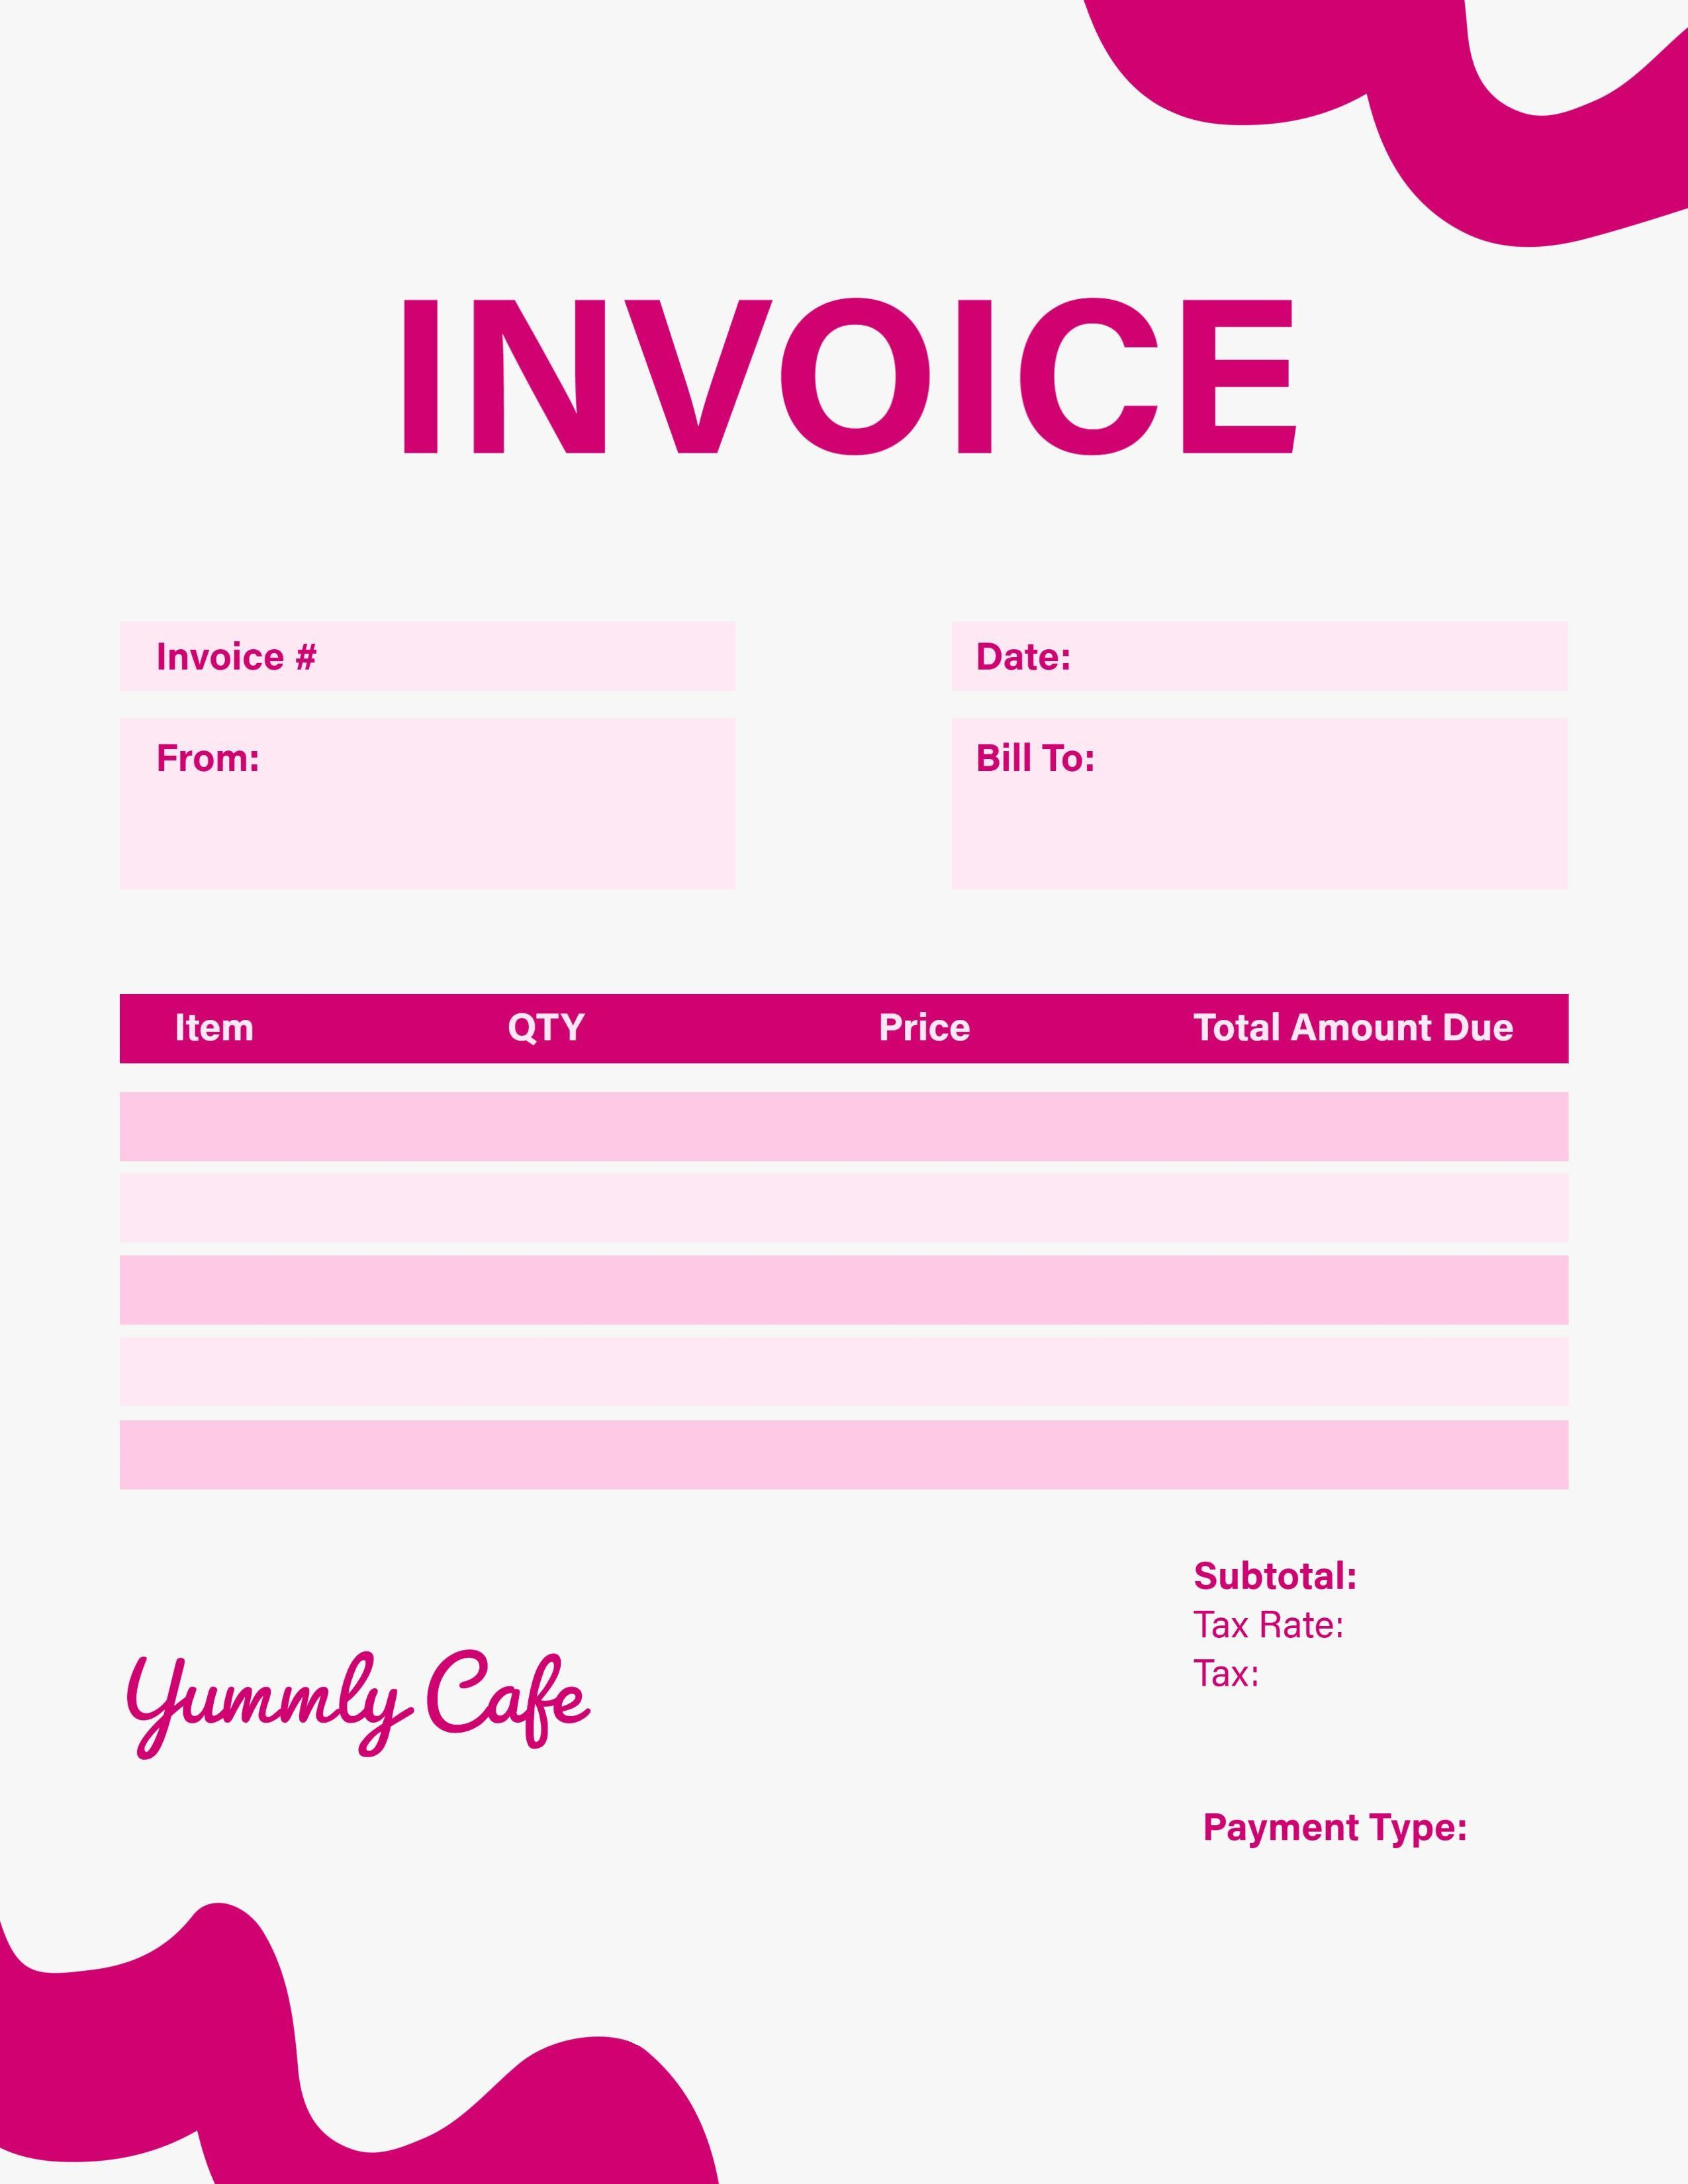ROI: (119, 991, 1564, 1491), (1172, 1808, 1642, 2094), (1167, 1523, 1637, 1798), (952, 725, 1559, 886), (124, 629, 1555, 693), (117, 725, 716, 872)
